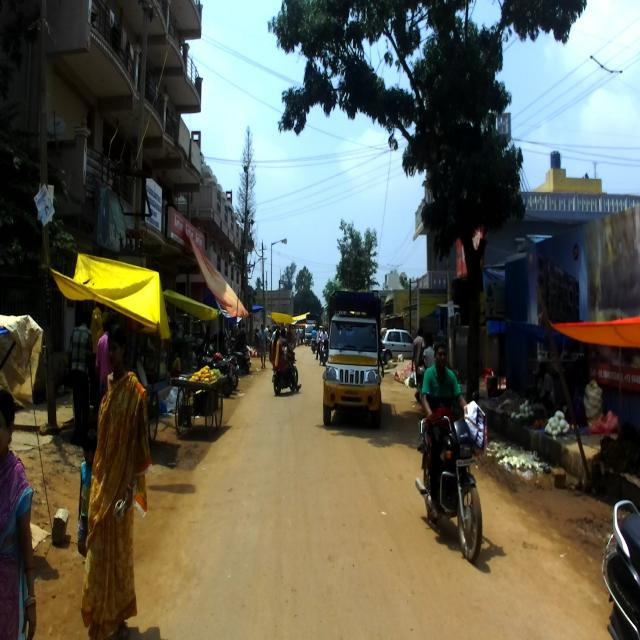motorcycle: (415, 391, 482, 564)
scooter: (601, 499, 640, 639)
truck: (322, 287, 383, 428)
